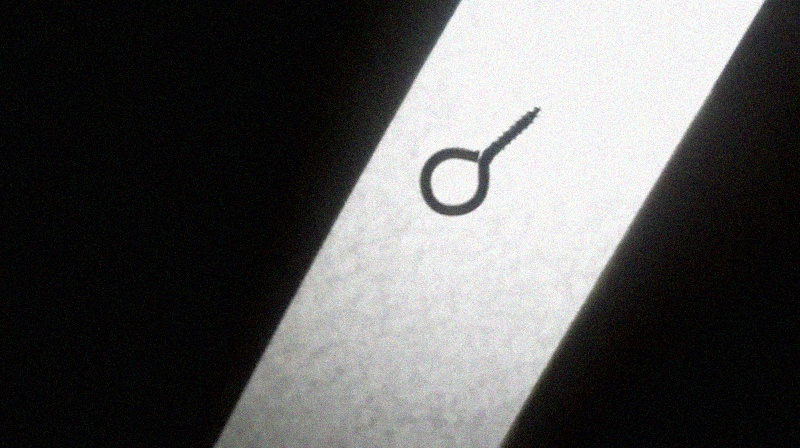O001: (416, 98, 545, 219)
